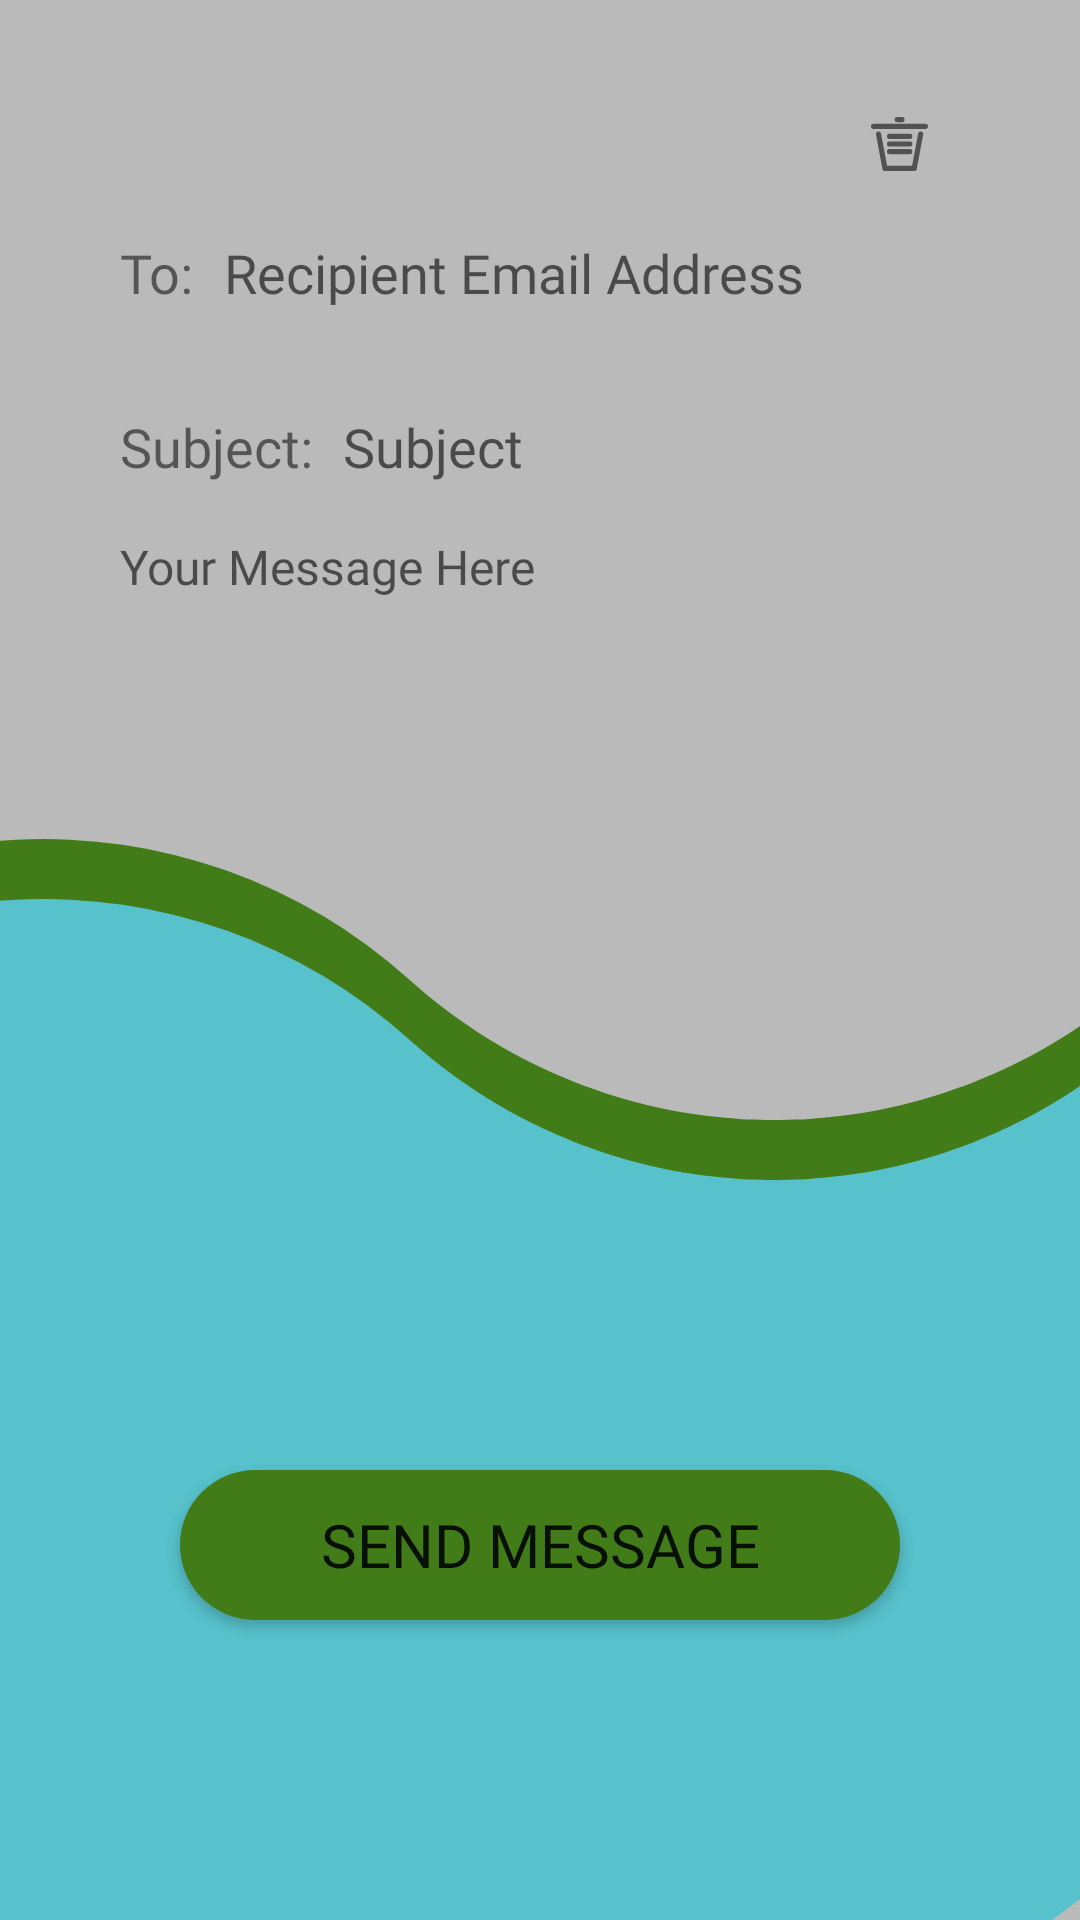

Icon click points for this 1080 × 1920 phone screenshot, format point (x, y):
trash: point (899, 144)
